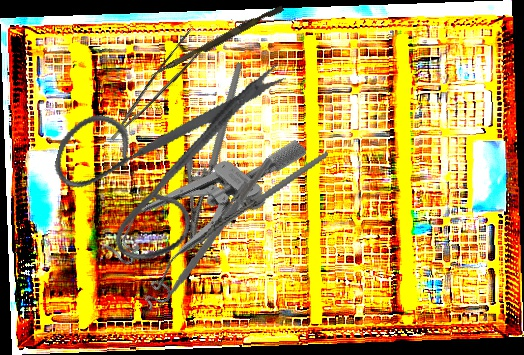Chopper: (139, 147, 273, 324)
Iris Scissors: (36, 12, 290, 285)
Needle Holder: (136, 61, 296, 252), (184, 150, 343, 246)
Pusher: (149, 1, 285, 83)
Speculum: (93, 90, 308, 324)
Tissue Forceps: (94, 23, 215, 142)
